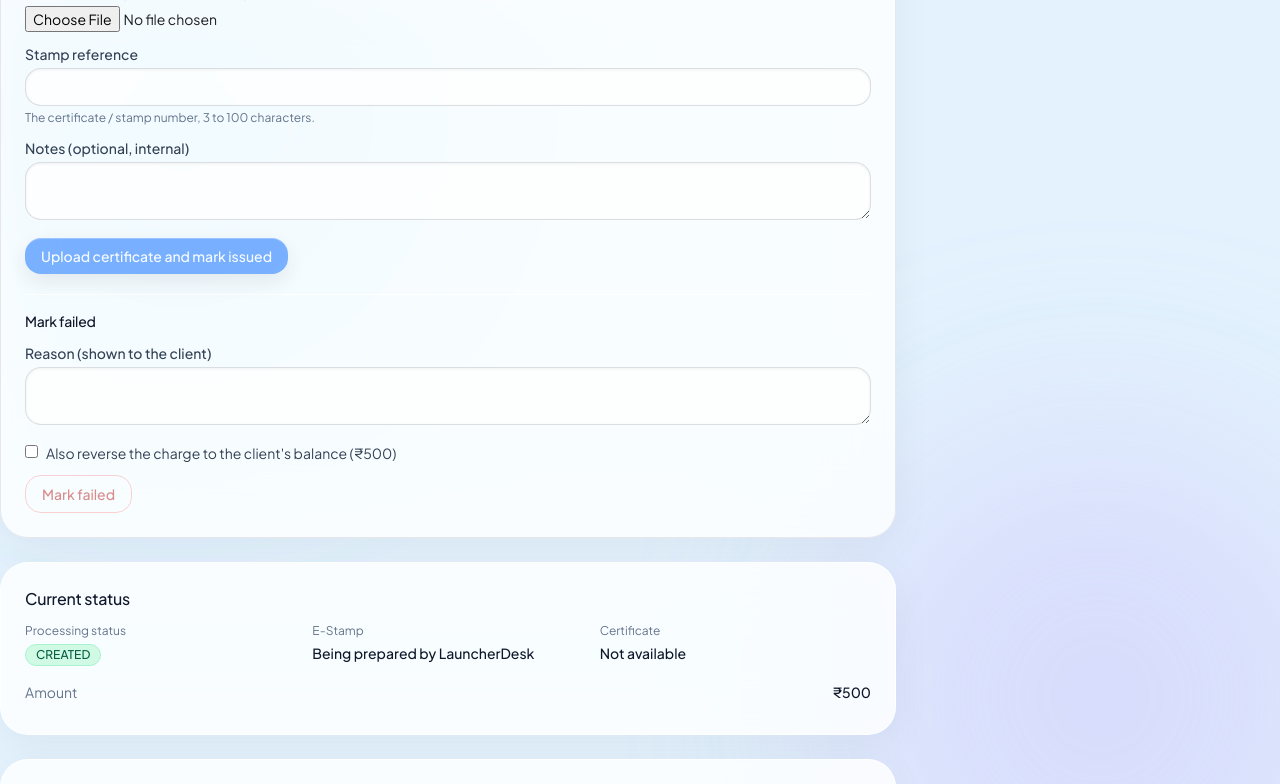
Test: Order detail - fulfilment panel › mark failed sends the reason and the refund choice exactly as chosen
The image size is (1280, 784).
(page scrolled)
Check: the button "Mark failed" is disabled, box [25,475,132,513]
Type "Registrar office closed" into the text box labelled "Reason (shown to the client)" at (448, 396), box [25,367,871,425]
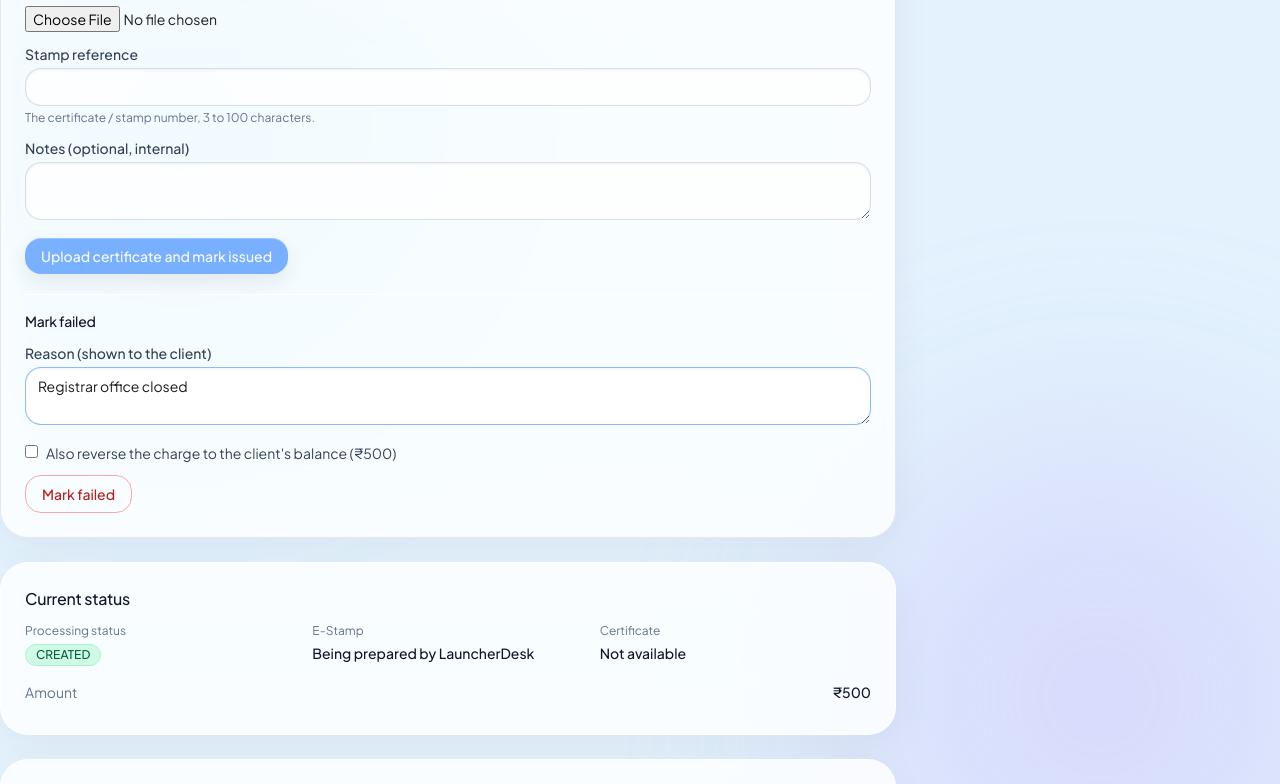
Click the checkbox labelled "Also reverse the charge to the client's balance (₹500)" at (32, 452), box [25,445,38,458]
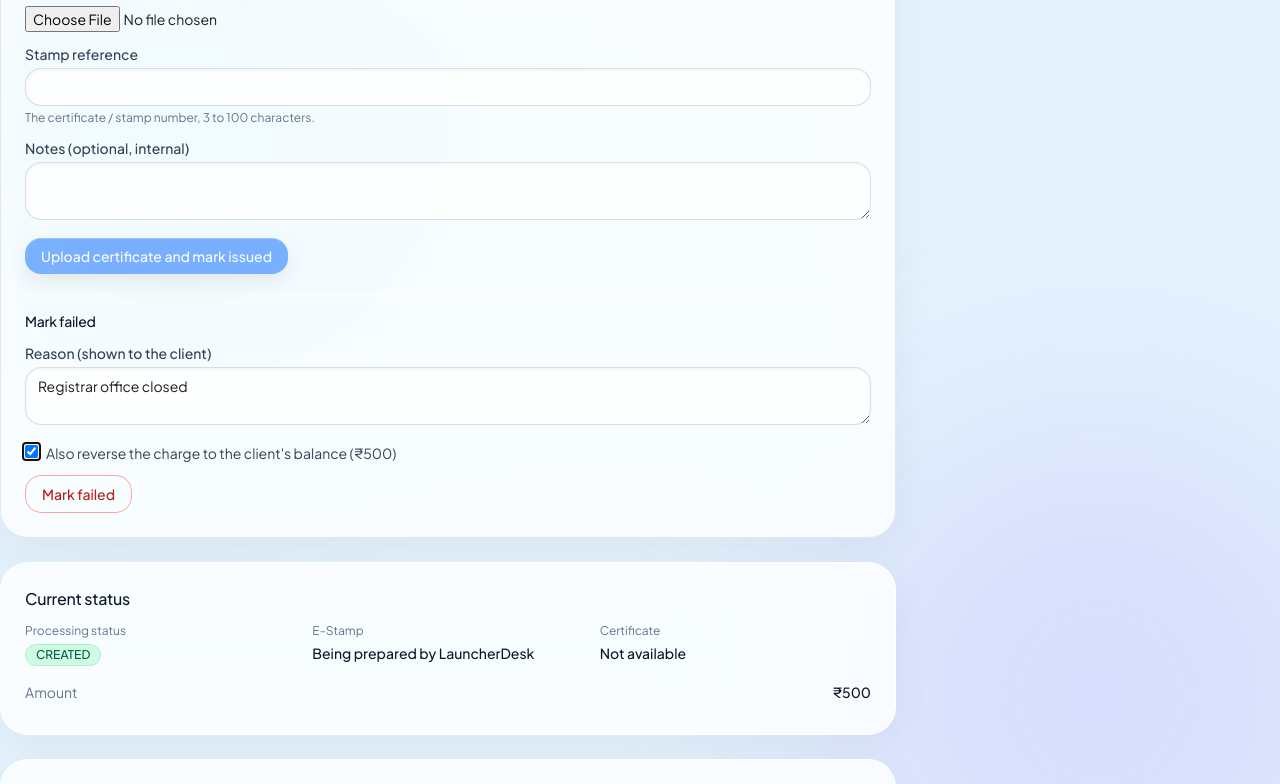
Click the button "Mark failed" at (79, 494), box [25,475,132,513]
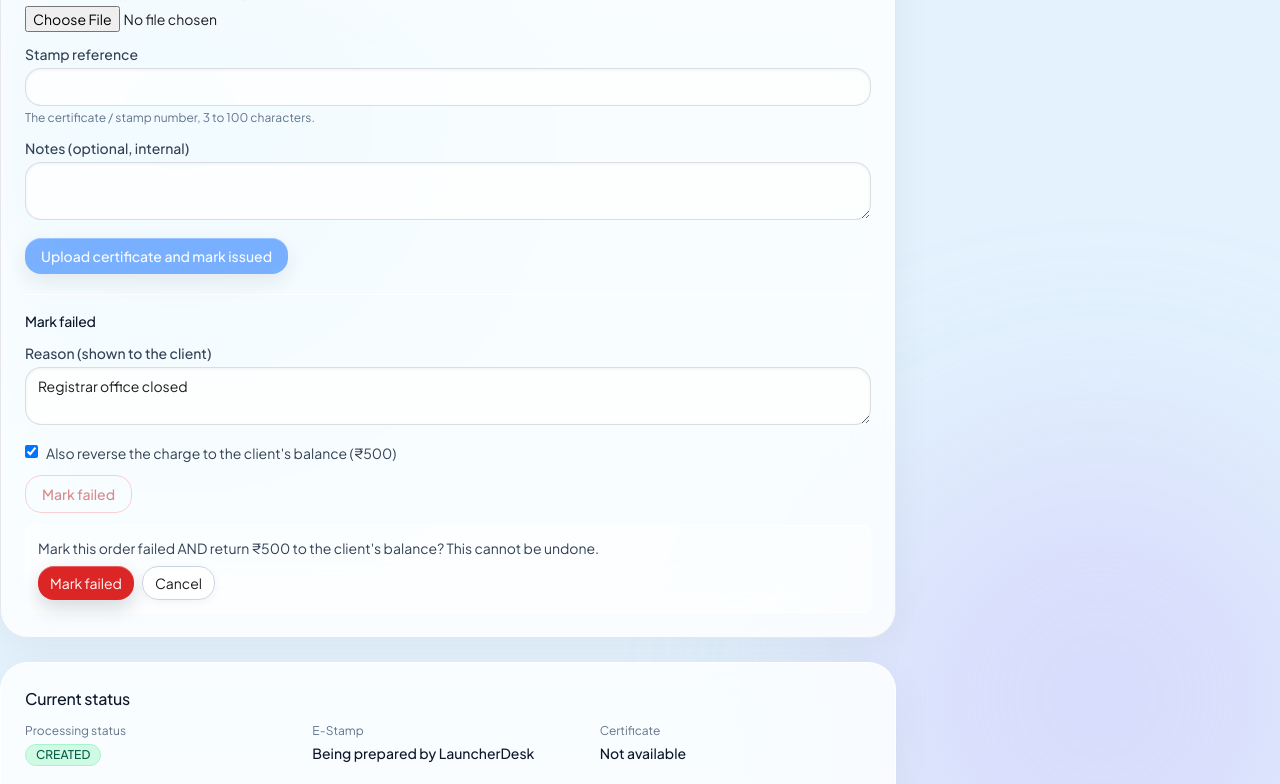
Check: the dialog shows "return ₹500 to the client's balance", box [38,539,599,557]
Click the 2nd button "Mark failed" at (86, 583), box [38,566,134,600]
(page scrolled)
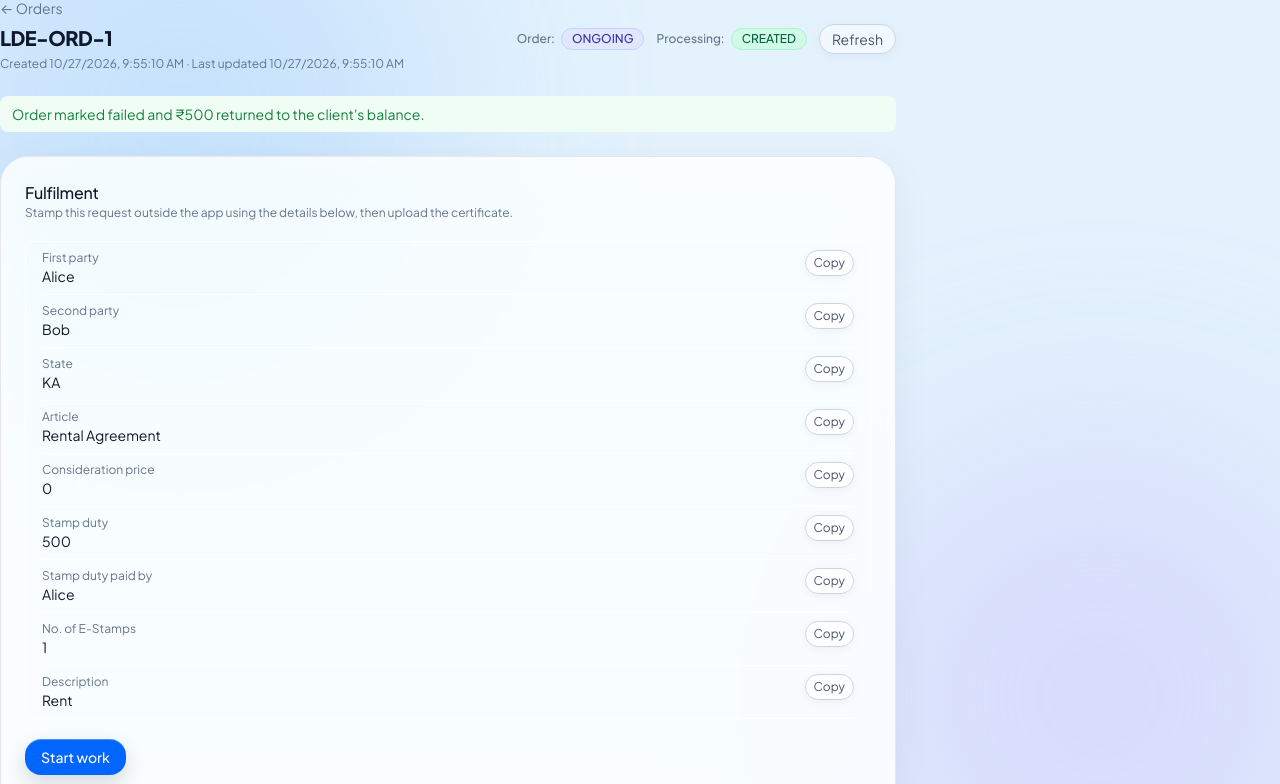
Check: the text "Order marked failed and ₹500 returned to the client's balance." is shown, box [0,96,896,132]
